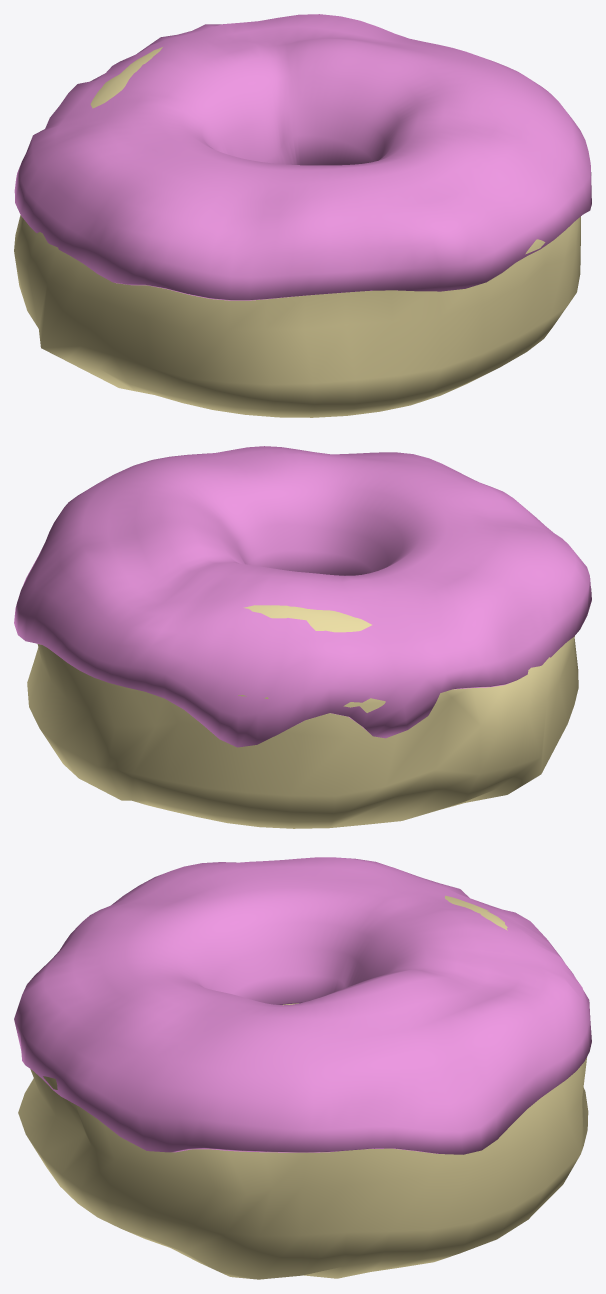
File: Donut.glb
3 renders of one model, top to bottom at view 1: azimuth 30°, elevation 25°; view 2: azimuth 150°, elevation 25°; view 3: azimuth 270°, elevation 25°, orthographic. The views are drawn at different scales.
Parts seen in each view (by area): view 1: Icing, Donut; view 2: Icing, Donut; view 3: Icing, Donut.
Part boxes in pixels (x1,y1,x2,y2): Icing: (14, 14, 591, 300); Donut: (14, 47, 580, 417); Icing: (14, 446, 591, 747); Donut: (27, 605, 578, 828); Icing: (14, 857, 591, 1154); Donut: (18, 895, 588, 1279).
Size of what is drawn, in the model's own units: 0.101 by 0.0473 by 0.0968.
